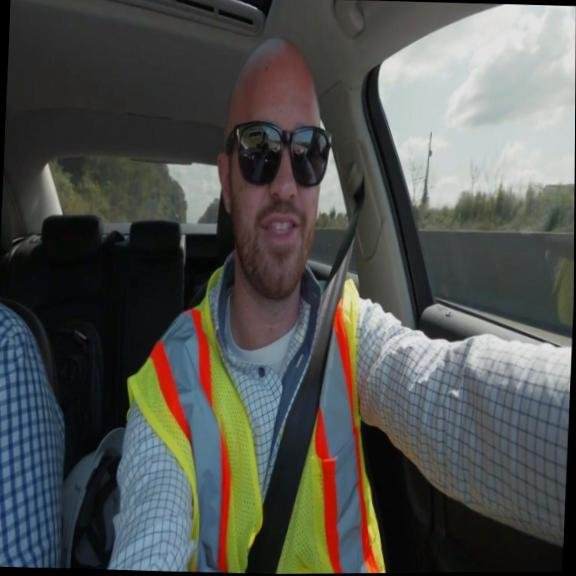safety_vest: (118, 260, 403, 575)
